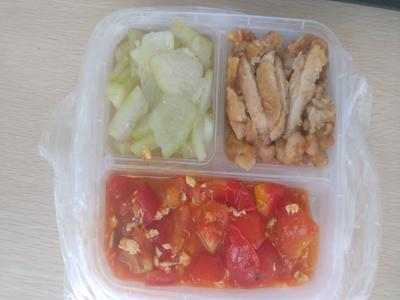dg: (112, 20, 220, 166)
jdxhs: (98, 168, 336, 294)
